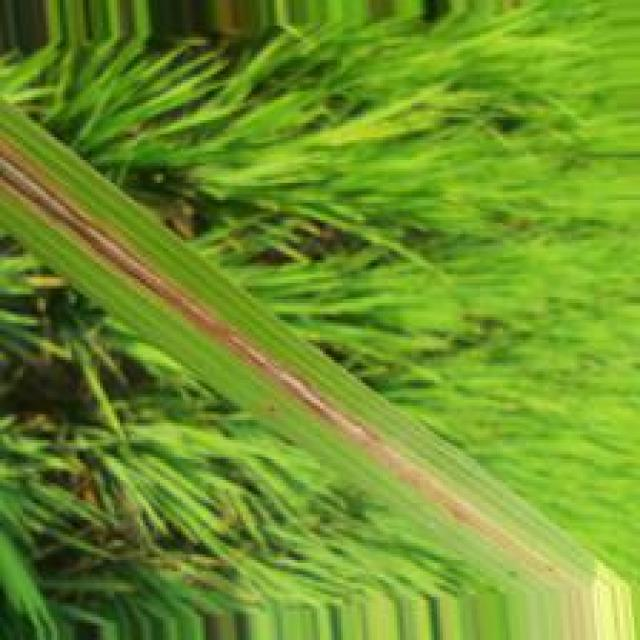Leaf_Blast: (0, 145, 521, 555)
